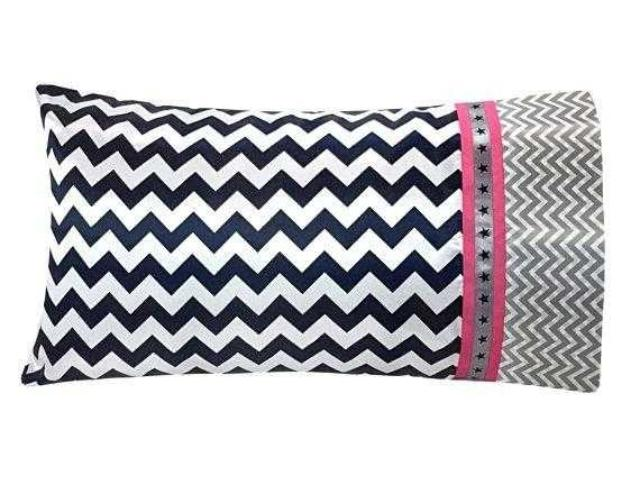pillow: (20, 82, 604, 390)
